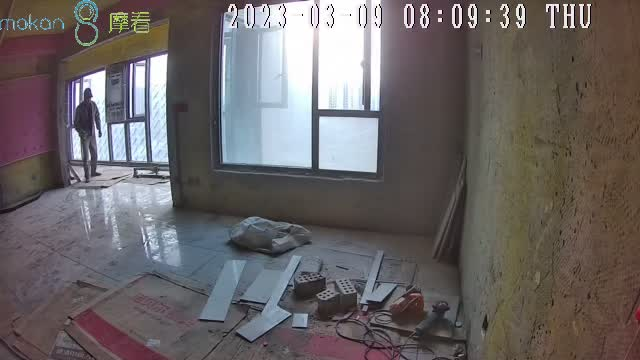people: (74, 88, 101, 184)
window: (218, 8, 380, 175), (70, 53, 168, 166)
